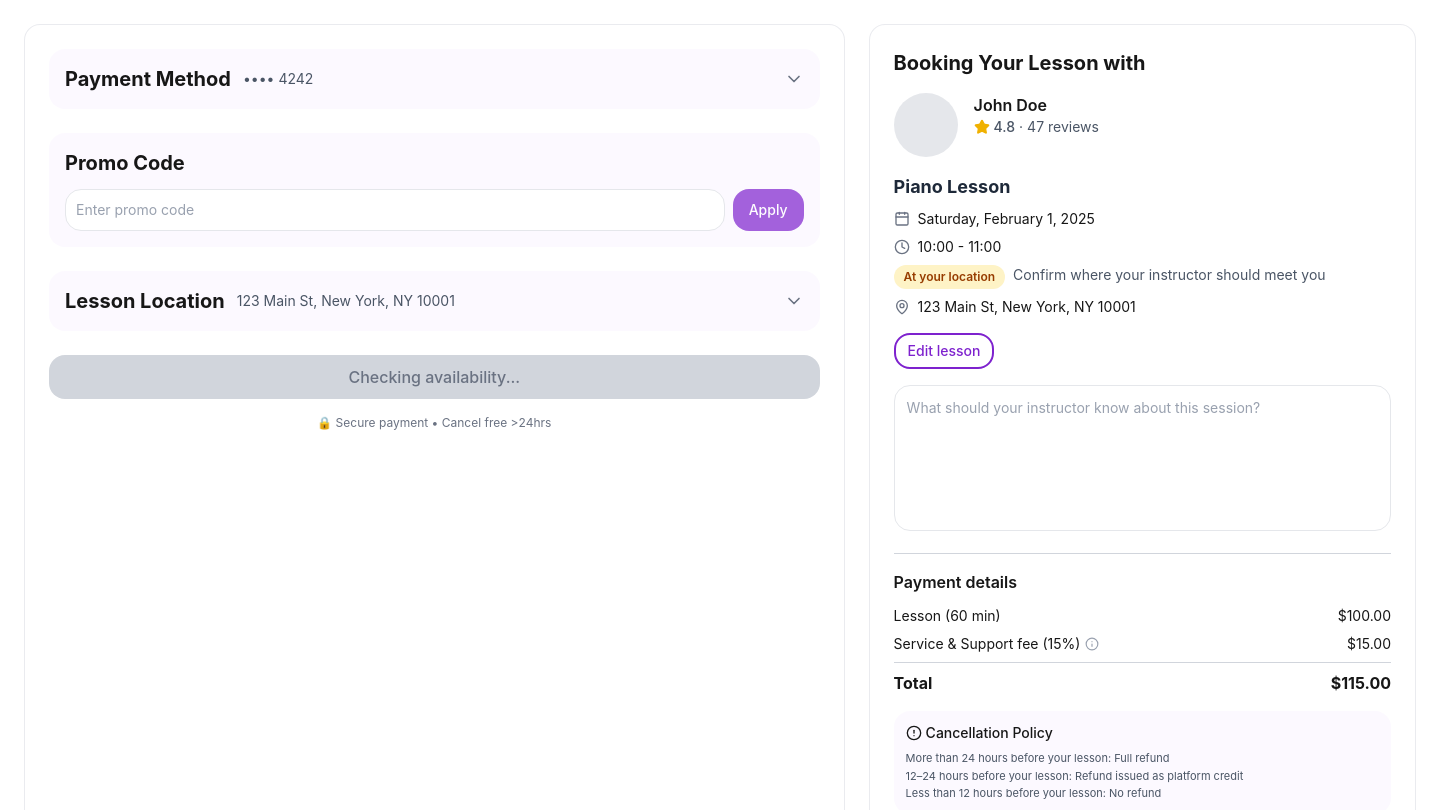
PaymentConfirmation › payment method section › displays saved card info when provided
Expected: the text "•••• 4242" is shown, [243,69,313,89]
Note: Expand to see full card info with brand
What coordinates should you click on to do the following:
click the heading "Payment Method"
I would click on:
 (148, 79)
Its box is [65,65,231,93].
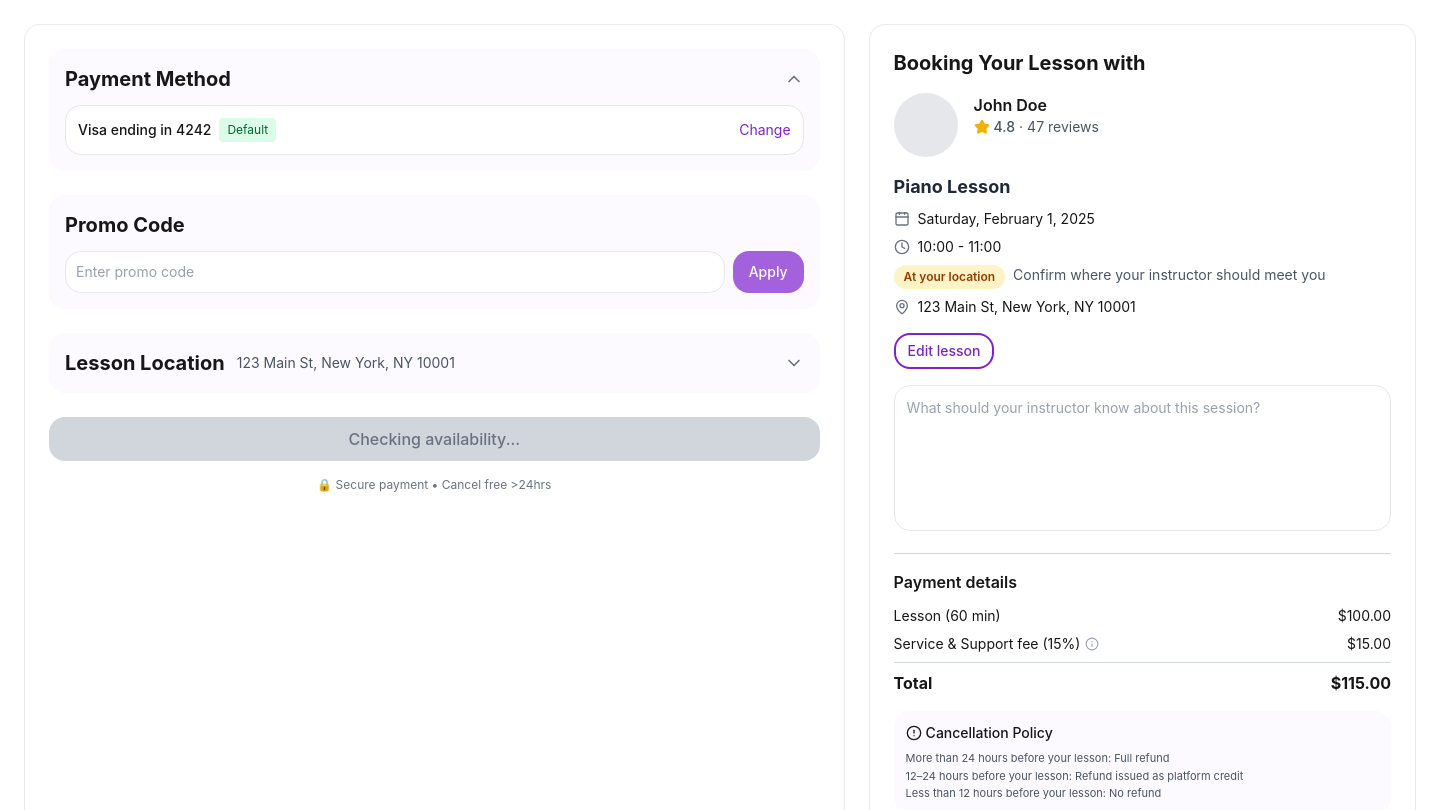
Now the text "Visa ending in 4242" is shown, box [78,120,212,140]
Now the text "Default" is shown, box [220,118,276,142]
